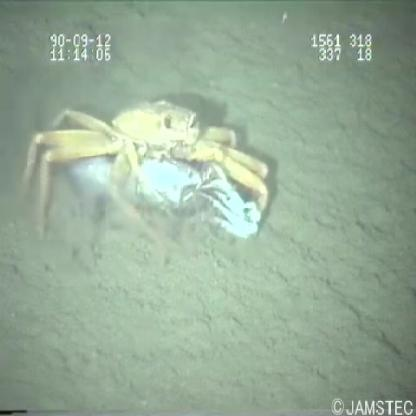Bio: (18, 96, 274, 246)
